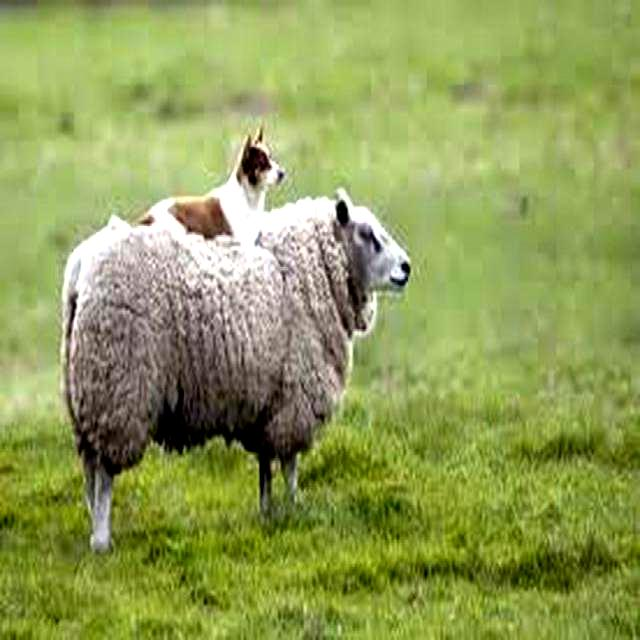sheep: (61, 191, 413, 557)
